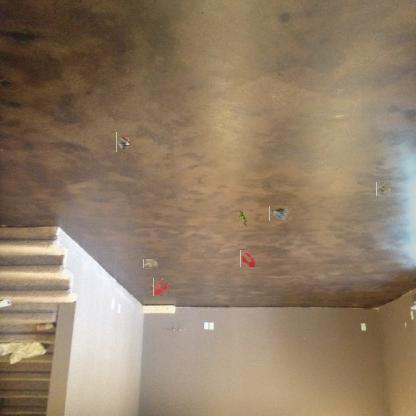dirty: (269, 206, 292, 222), (116, 132, 131, 152), (236, 207, 248, 229), (377, 182, 391, 197), (143, 258, 158, 268)
liquid: (152, 279, 169, 296), (240, 249, 255, 267)
